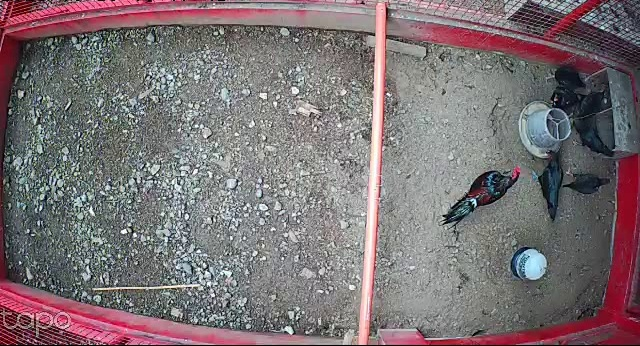Chicken: (531, 148, 564, 226), (569, 110, 614, 159), (558, 167, 613, 196), (544, 58, 589, 91)
Drinker: (509, 246, 548, 282)
Feeder: (520, 96, 572, 158)
Rooster: (438, 162, 522, 231)
